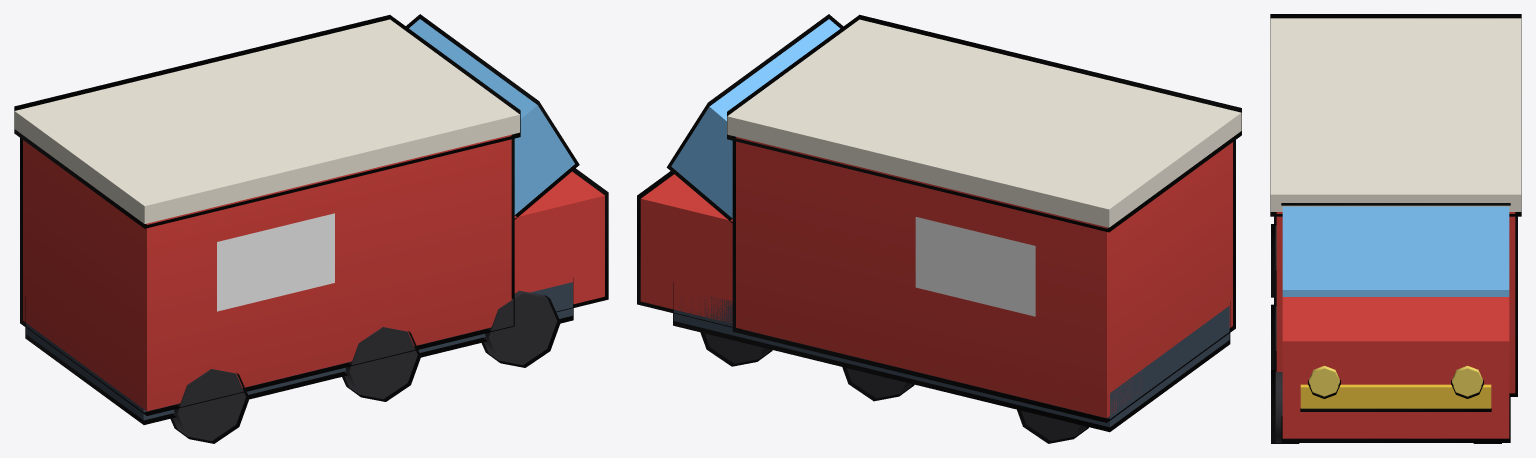
The model's file is BR_Zug_Lok.glb.
3 views of the same model, side by side, from view 1: azimuth 30°, elevation 25°; view 2: azimuth 150°, elevation 25°; view 3: azimuth 270°, elevation 25° (orthographic). The views are drawn at different scales.
Visible parts, largest first — view 1: BR_Zug_Lok_Mesh, BR_Zug_Lok_Outline; view 2: BR_Zug_Lok_Mesh, BR_Zug_Lok_Outline; view 3: BR_Zug_Lok_Mesh, BR_Zug_Lok_Outline.
Part boxes in pixels (bbox=[...]): BR_Zug_Lok_Mesh: bbox=[14, 19, 604, 440]; BR_Zug_Lok_Outline: bbox=[14, 14, 608, 443]; BR_Zug_Lok_Mesh: bbox=[640, 19, 1241, 440]; BR_Zug_Lok_Outline: bbox=[637, 14, 1241, 443]; BR_Zug_Lok_Mesh: bbox=[1270, 18, 1521, 442]; BR_Zug_Lok_Outline: bbox=[1270, 14, 1521, 443].
Size of the model in its own units: 4.45 by 2.31 by 2.11.
